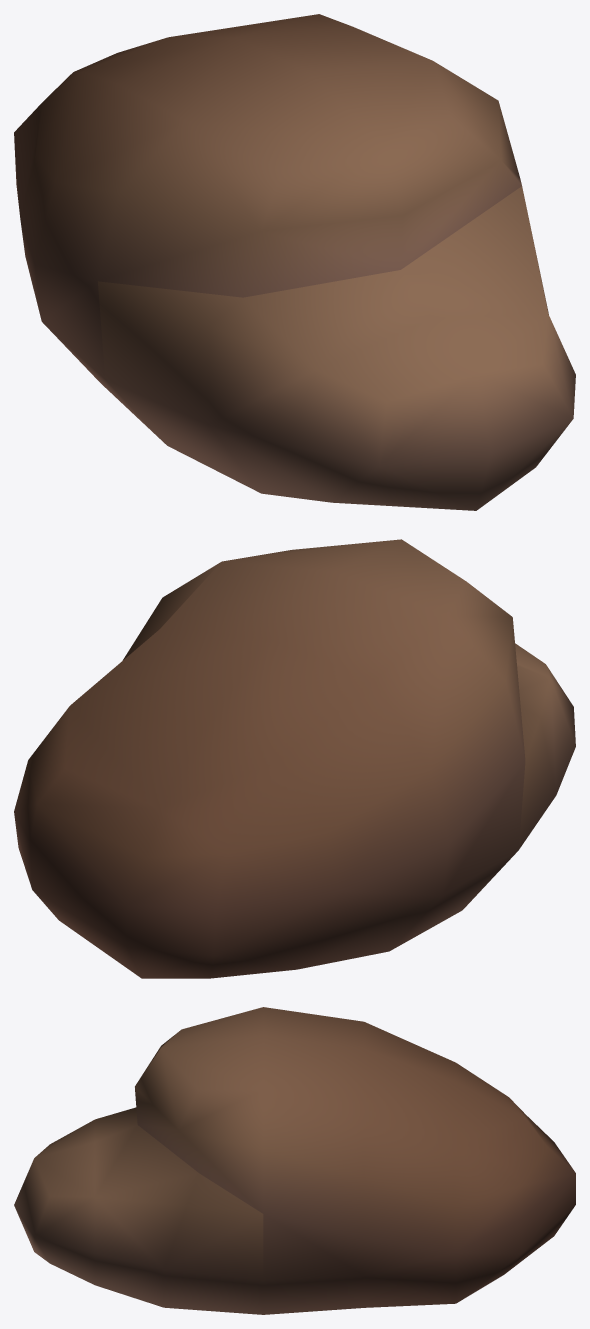
Rendered from ColoredPebble.006.glb.
3 views of the same model, one above another, from view 1: azimuth 30°, elevation 25°; view 2: azimuth 150°, elevation 25°; view 3: azimuth 270°, elevation 25° (orthographic). The views are drawn at different scales.
Parts seen in each view (by area): view 1: ColoredPebble.006; view 2: ColoredPebble.006; view 3: ColoredPebble.006.
Boxes of the visible parts, box(x1,y1,x2,y2) form: ColoredPebble.006: box(14, 14, 575, 510); ColoredPebble.006: box(14, 539, 575, 978); ColoredPebble.006: box(14, 1007, 575, 1314).
Bounding box in the file's own units: 8.07 × 6.66 × 13.53.
